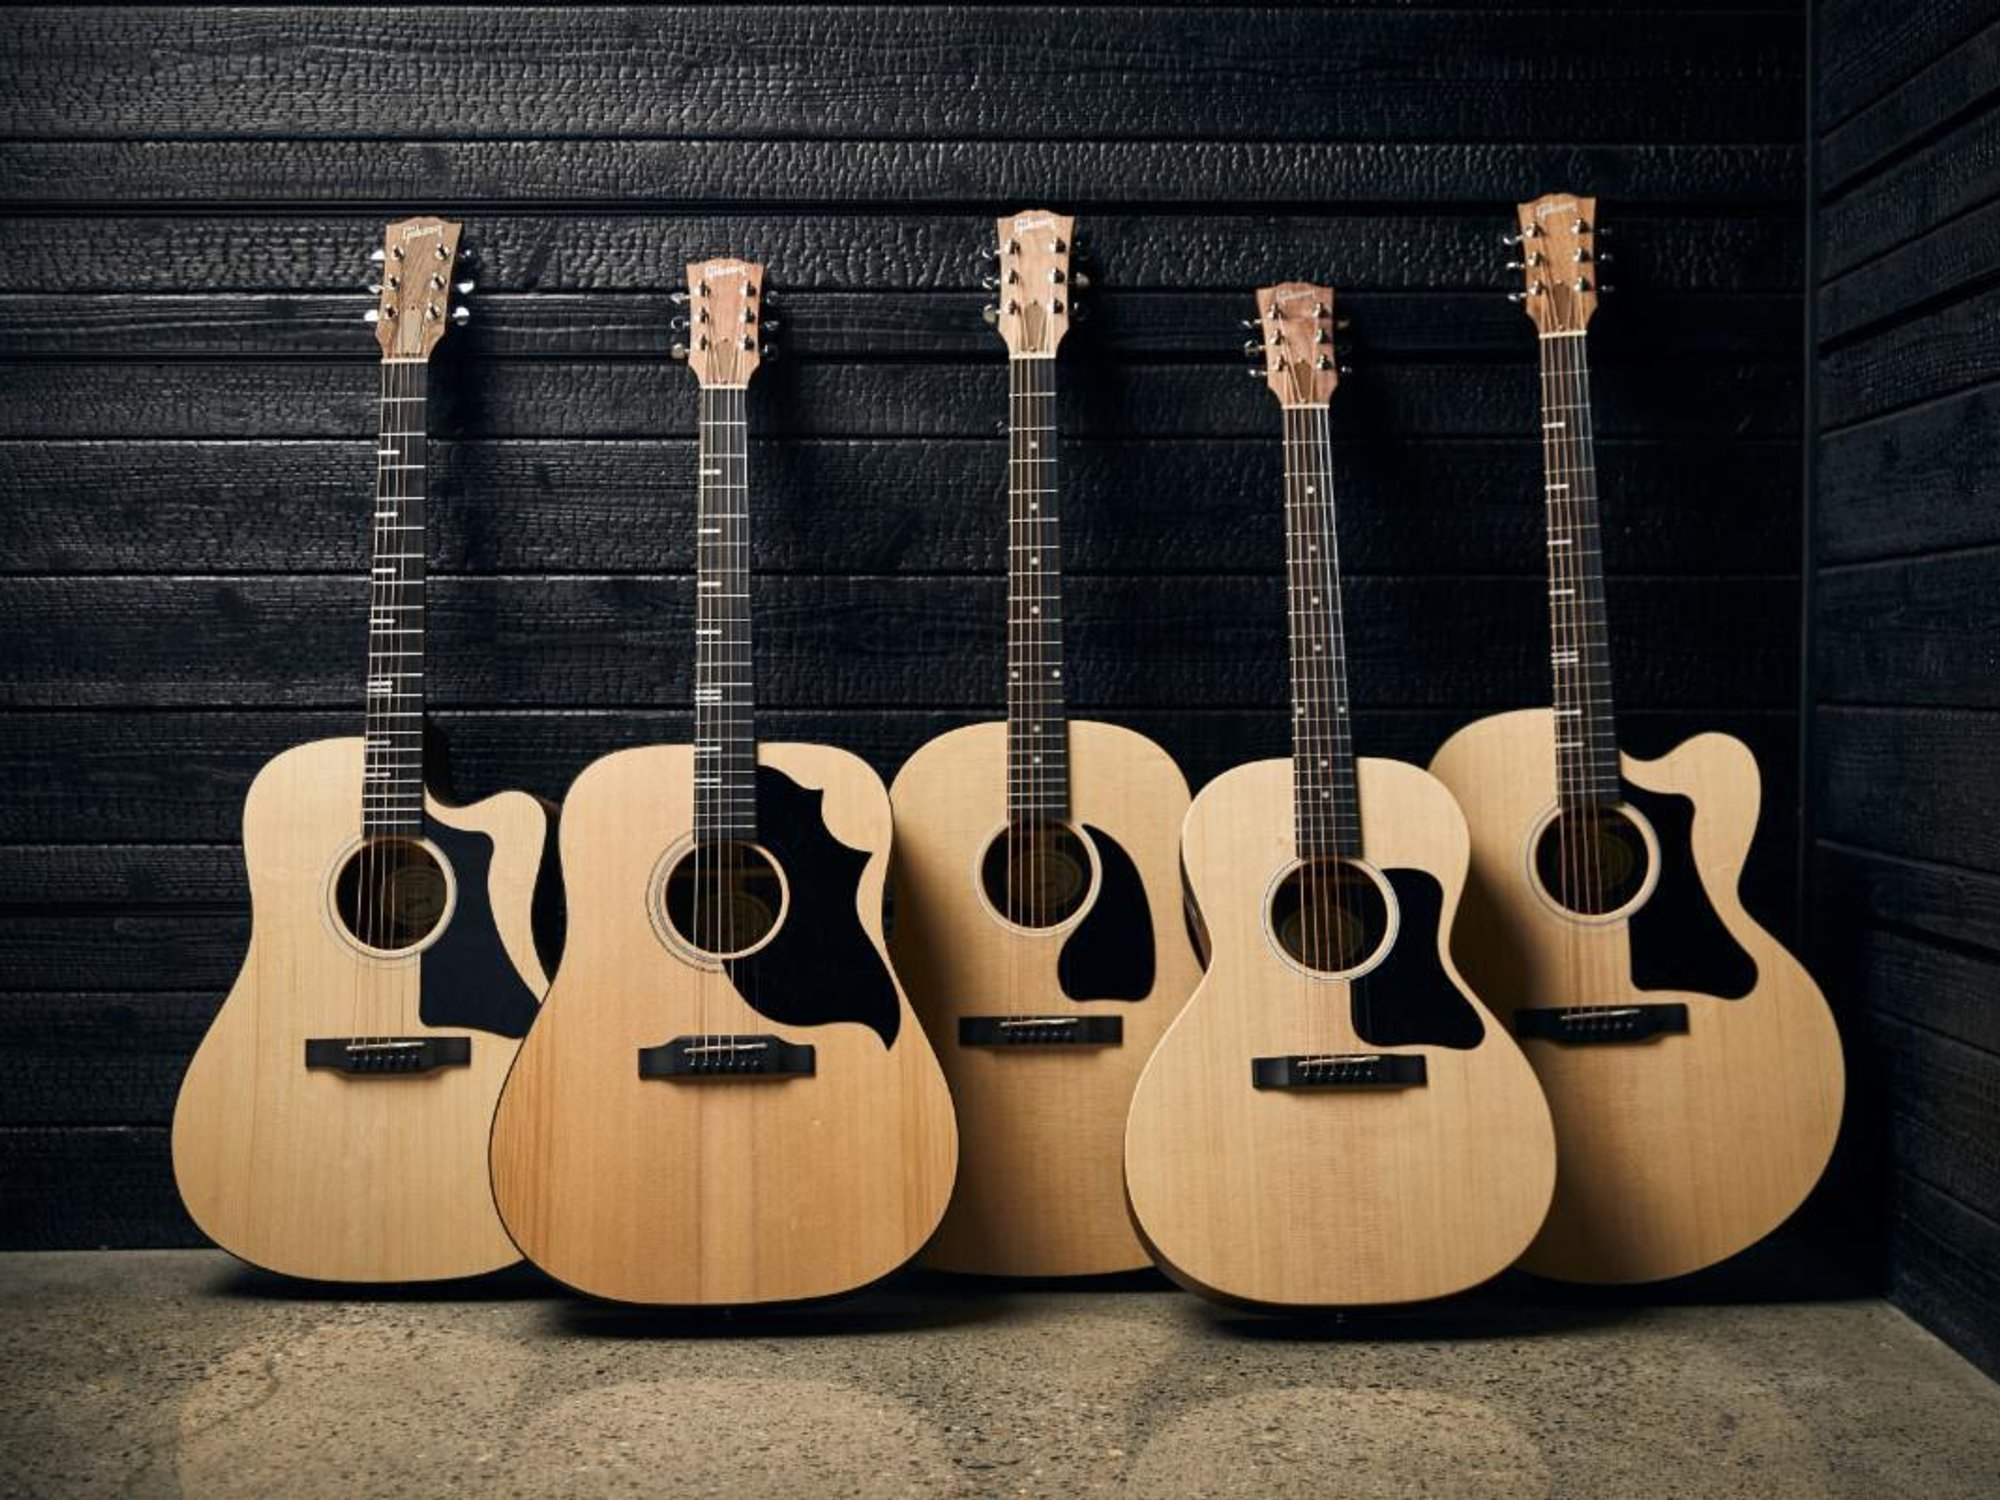guitar: (490, 244, 965, 1308), (1425, 191, 1850, 1295), (1123, 277, 1562, 1322), (169, 219, 551, 1294), (891, 208, 1198, 1286)
